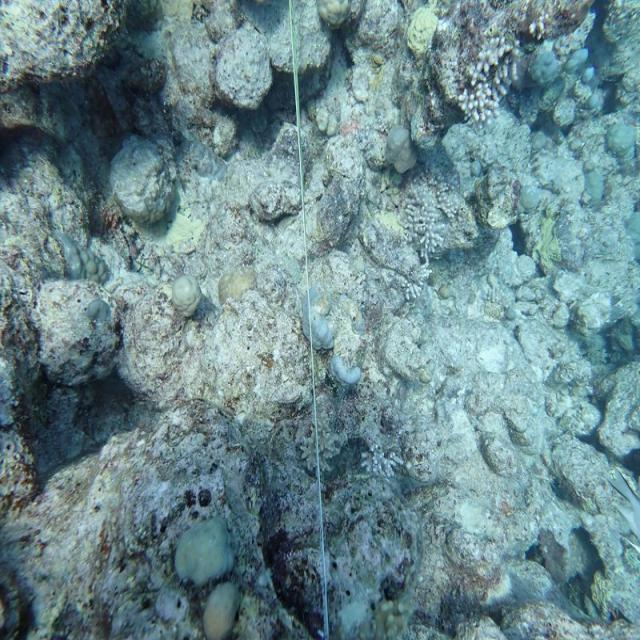Bleached Coral: (362, 161, 463, 333), (170, 497, 260, 640), (442, 10, 528, 142), (286, 281, 372, 392), (348, 422, 436, 509), (357, 568, 428, 640), (158, 268, 216, 328)
